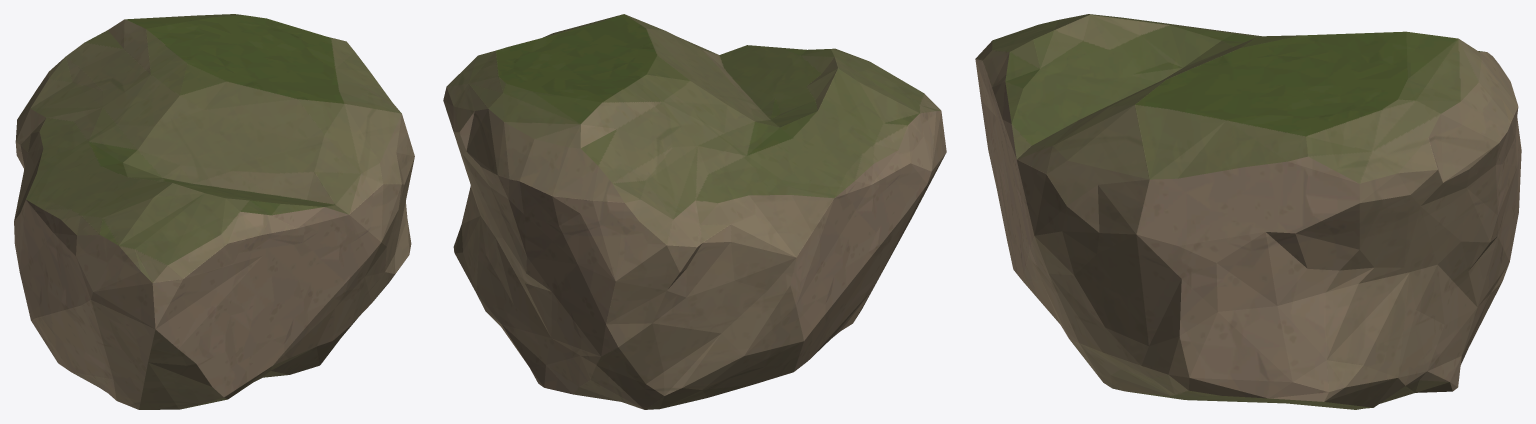
The model's file is SM_Env_Rock_05.glb.
3 views of the same model, side by side, from view 1: azimuth 30°, elevation 25°; view 2: azimuth 150°, elevation 25°; view 3: azimuth 270°, elevation 25° (orthographic). The views are drawn at different scales.
Visible parts, largest first — view 1: SM_Env_Rock_05; view 2: SM_Env_Rock_05; view 3: SM_Env_Rock_05.
Boxes of the visible parts, x1,y1,x2,y2 form: SM_Env_Rock_05: [14, 14, 414, 409]; SM_Env_Rock_05: [443, 14, 946, 409]; SM_Env_Rock_05: [975, 14, 1521, 409].
Bounding box in the file's own units: 3.55 × 2.53 × 3.73.
1 material, 1 textured.
